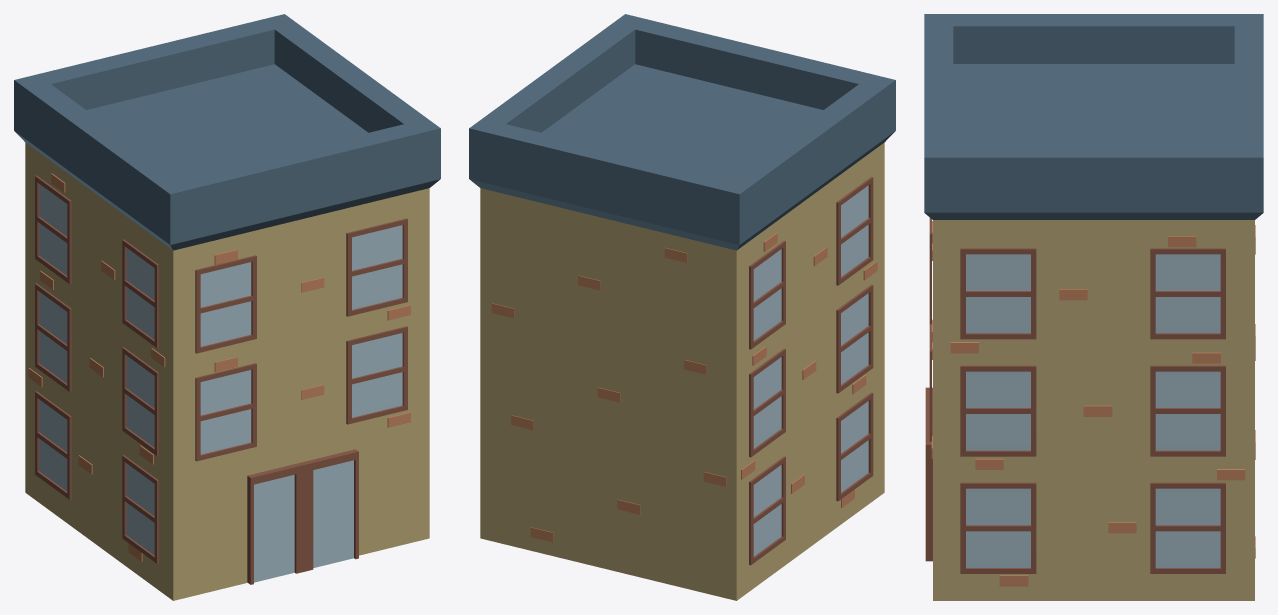
The model's file is Buildingg-001.glb.
The picture shows the model from 3 angles, left to right: view 1: azimuth 30°, elevation 25°; view 2: azimuth 150°, elevation 25°; view 3: azimuth 270°, elevation 25°; orthographic projection. The views are drawn at different scales.
Parts seen in each view (by area): view 1: building-001; view 2: building-001; view 3: building-001.
Boxes of the visible parts, x1=… form: building-001: x1=14, y1=14, x2=440, y2=600; building-001: x1=469, y1=14, x2=895, y2=600; building-001: x1=924, y1=14, x2=1263, y2=600.
Bounding box in the file's own units: 2.59 × 3.76 × 2.59.
1 material, 1 textured.
